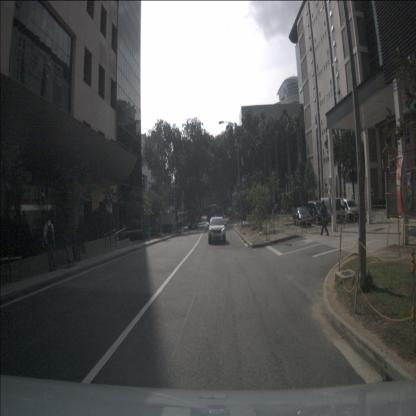human-pedestrian-adult: (43, 214, 57, 272), (70, 223, 80, 263), (179, 219, 182, 234)
vehicle-bus-rigid: (186, 210, 198, 230), (207, 203, 217, 224)
vehicle-car: (320, 197, 345, 224), (307, 201, 329, 225), (338, 198, 360, 222), (208, 217, 226, 245), (293, 206, 311, 228)
